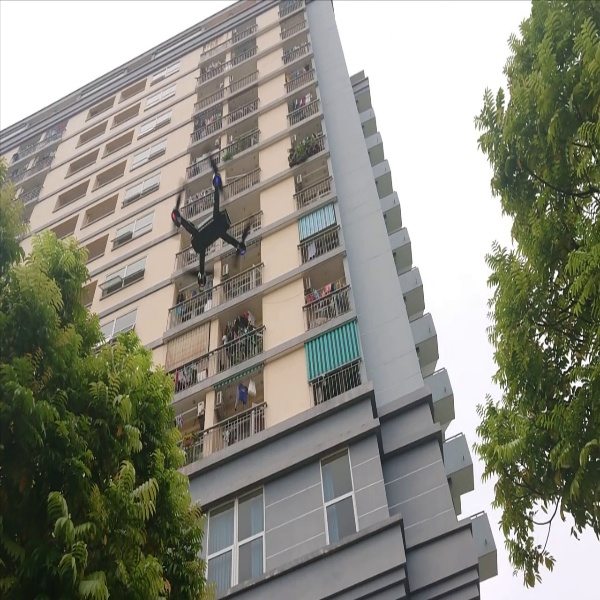drone: (154, 150, 265, 289)
